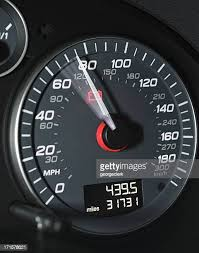Digital_Meter: (82, 176, 144, 221)
